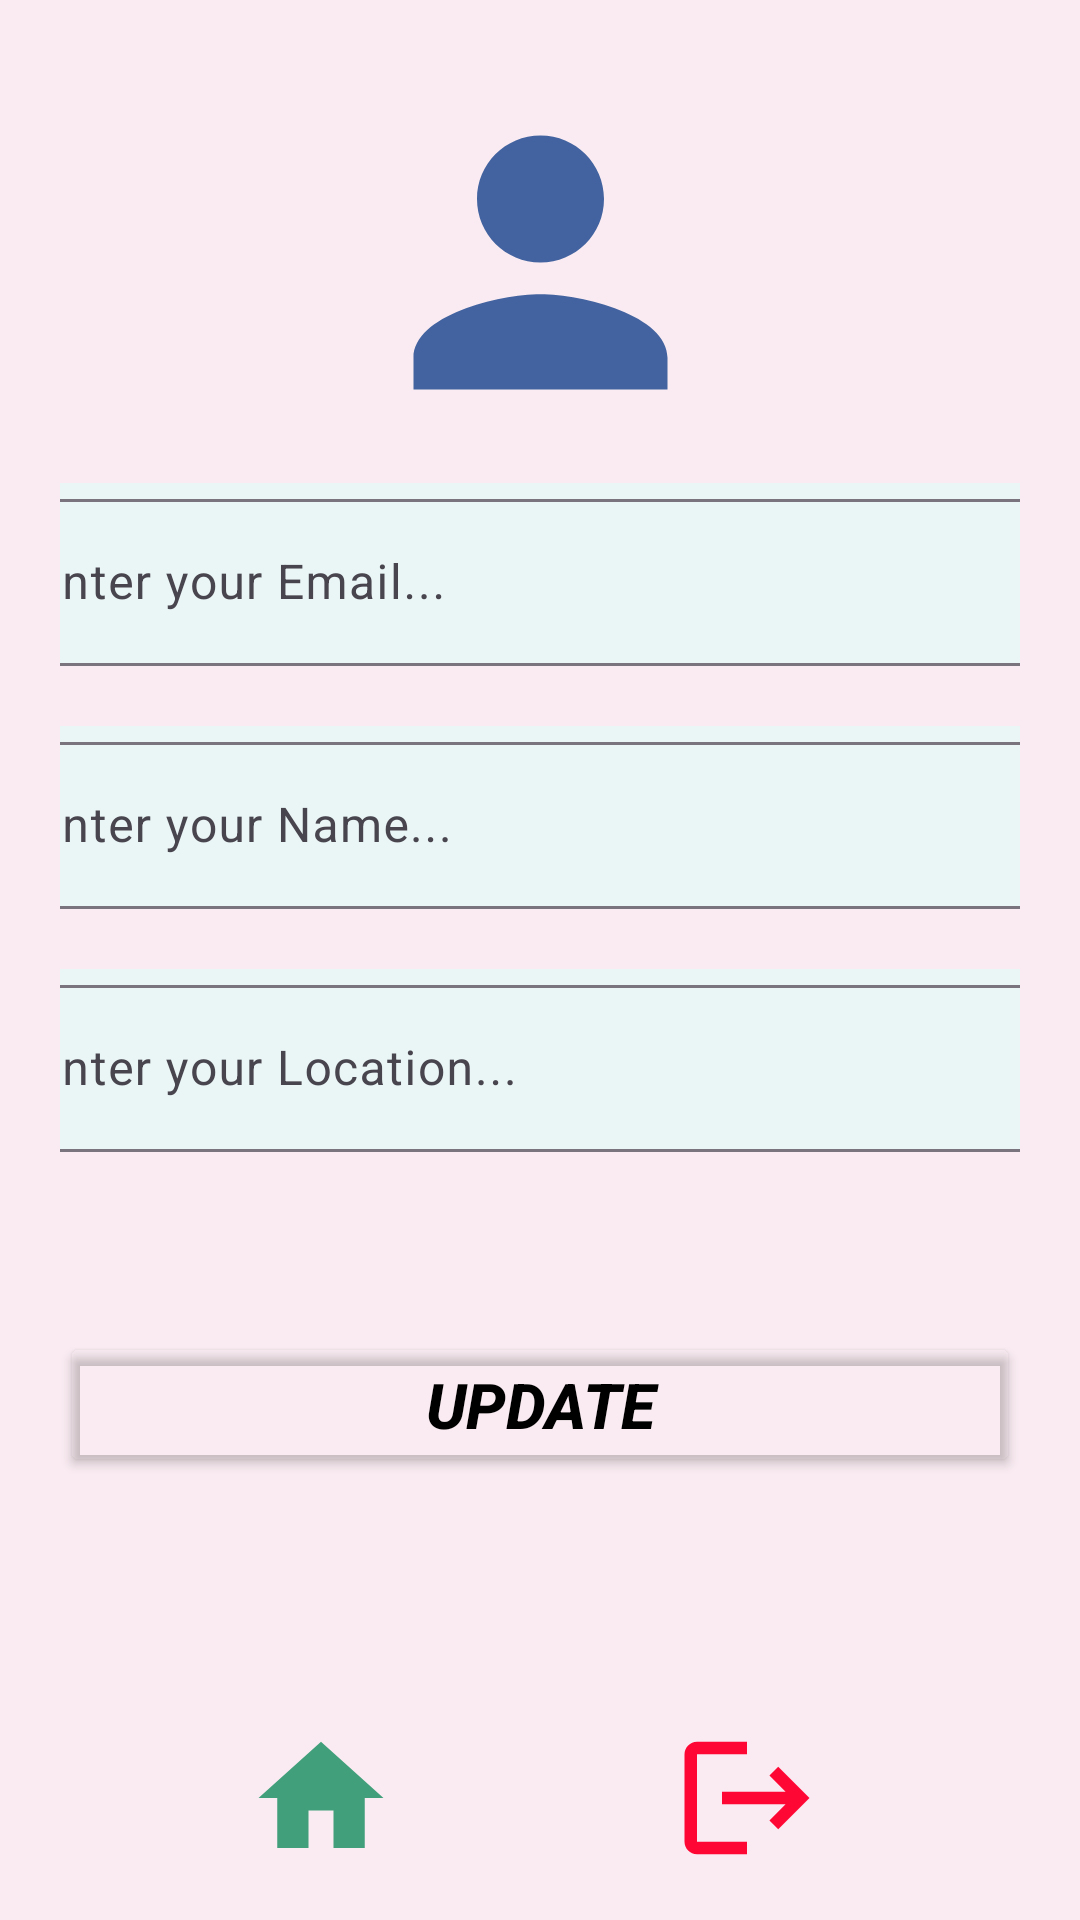

Where icons sit on this 1080×1920 app screen, as [x1, y1, x2, y2]:
home: [259, 1742, 383, 1848]
person: [413, 135, 668, 390]
